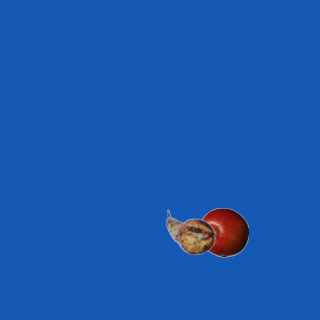Apple Braeburn: (198, 207, 248, 257)
Pear Abate: (165, 207, 215, 257)
